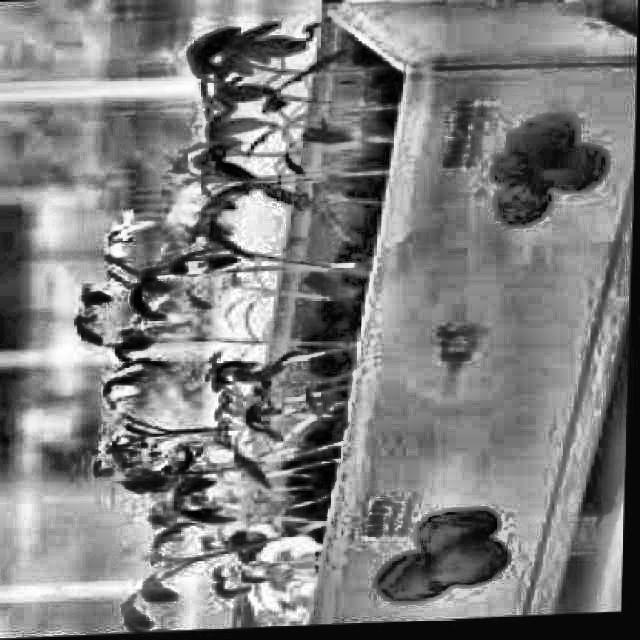plants: (56, 4, 566, 633)
